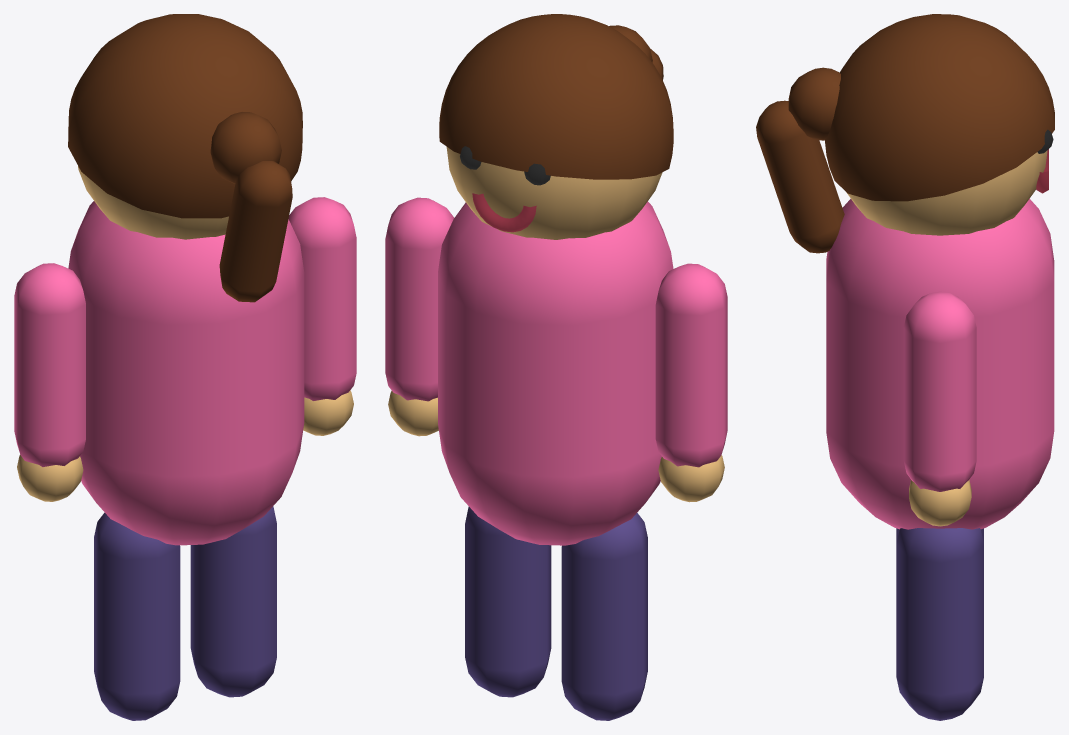
The model's file is hair-ponytail.glb.
3 renders of one model, left to right at view 1: azimuth 30°, elevation 25°; view 2: azimuth 150°, elevation 25°; view 3: azimuth 270°, elevation 25°, orthographic.
Visible parts, largest first — view 1: torso, head, armL, legL, legR, armR; view 2: torso, head, armL, legL, legR, armR; view 3: head, torso, legR, armR.
Part boxes in pixels (x1,y1,x2,y2): torso: (68, 201, 304, 545); head: (68, 14, 302, 302); armL: (14, 263, 85, 501); legL: (94, 512, 180, 720); legR: (190, 506, 276, 697); armR: (288, 197, 356, 435); torso: (438, 201, 673, 545); head: (439, 14, 673, 239); armL: (655, 263, 727, 502); legL: (561, 513, 647, 720); legR: (465, 506, 551, 697); armR: (385, 197, 454, 436); head: (756, 14, 1054, 253); torso: (826, 198, 1054, 529); legR: (896, 528, 983, 720); armR: (903, 291, 976, 526).
Size of the model in its own units: 1.04 by 2.02 by 0.818.
